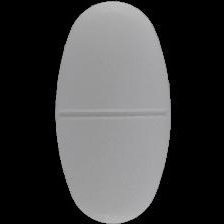43547-332: (0, 0, 224, 224)
